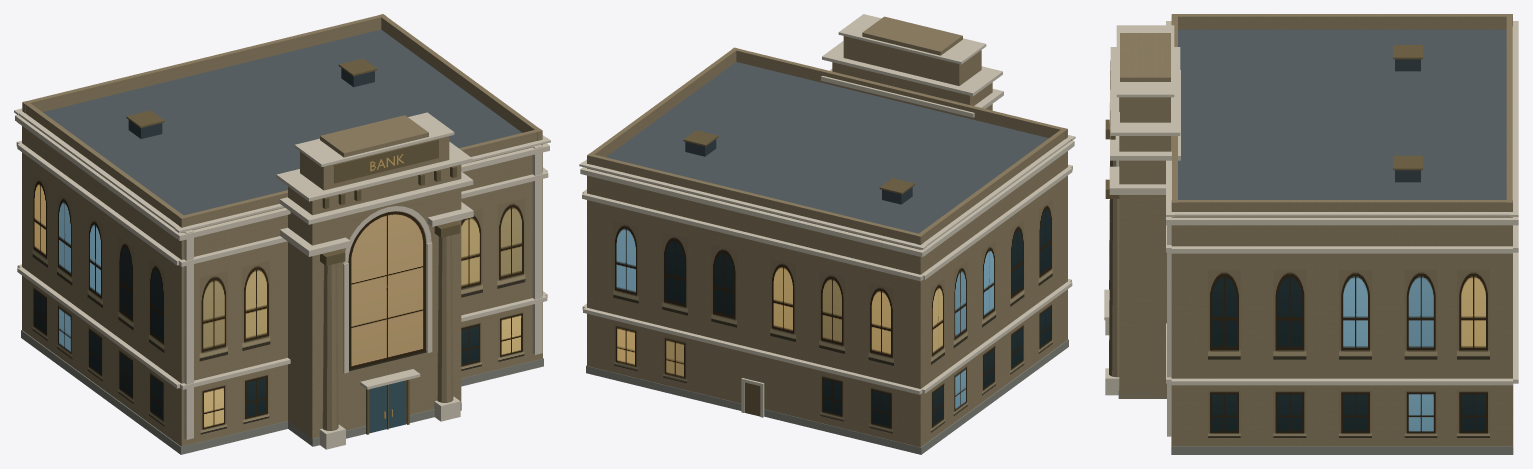
File: bank1.glb
3 renders of one model, left to right at view 1: azimuth 30°, elevation 25°; view 2: azimuth 150°, elevation 25°; view 3: azimuth 270°, elevation 25°, orthographic. The views are drawn at different scales.
Parts seen in each view (by area): view 1: Banking hall, Main roof, Entrance pavilion, Roof parapets, Great arched window, Side windows, Front arched windows, Side cornices, Front cornices, Entrance columns, Front windows, Portico entablature (+16 smaller); view 2: Banking hall, Main roof, Rear windows, Roof parapets, Rear cornices, Side windows, Side cornices, Foundation, Crown sign block, Portico entablature, Raised crest, Entrance pavilion (+4 smaller); view 3: Main roof, Banking hall, Side windows, Entrance pavilion, Roof parapets, Side cornices, Foundation, Portico entablature, Raised crest, Rear cornices, Entrance columns, Crown cap (+6 smaller).
Part boxes in pixels (left/top/right/bottom): Banking hall: left=22, top=126, right=542, bottom=446; Main roof: left=43, top=29, right=521, bottom=215; Entrance pavilion: left=288, top=164, right=461, bottom=445; Roof parapets: left=22, top=14, right=542, bottom=227; Great arched window: left=348, top=202, right=426, bottom=371; Side windows: left=32, top=174, right=164, bottom=426; Front arched windows: left=199, top=199, right=525, bottom=361; Side cornices: left=17, top=111, right=547, bottom=388; Front cornices: left=175, top=137, right=550, bottom=389; Entrance columns: left=322, top=235, right=453, bottom=430; Front windows: left=200, top=311, right=524, bottom=434; Portico entablature: left=276, top=141, right=473, bottom=224; Banking hall: left=587, top=151, right=1067, bottom=447; Main roof: left=606, top=62, right=1048, bottom=233; Rear windows: left=613, top=220, right=893, bottom=433; Roof parapets: left=587, top=47, right=1067, bottom=244; Rear cornices: left=579, top=161, right=926, bottom=394; Side windows: left=931, top=199, right=1052, bottom=432; Side cornices: left=582, top=138, right=1072, bottom=393; Foundation: left=586, top=339, right=1068, bottom=454; Crown sign block: left=843, top=36, right=981, bottom=85; Portico entablature: left=821, top=41, right=1003, bottom=117; Raised crest: left=862, top=16, right=962, bottom=55; Entrance pavilion: left=832, top=62, right=992, bottom=110; Main roof: left=1178, top=29, right=1506, bottom=199; Banking hall: left=1171, top=216, right=1512, bottom=446; Side windows: left=1208, top=270, right=1489, bottom=437; Entrance pavilion: left=1119, top=136, right=1171, bottom=398; Roof parapets: left=1171, top=14, right=1512, bottom=211; Side cornices: left=1171, top=212, right=1512, bottom=385; Foundation: left=1171, top=384, right=1513, bottom=454; Portico entablature: left=1110, top=47, right=1180, bottom=160; Raised crest: left=1120, top=33, right=1170, bottom=81; Rear cornices: left=1510, top=21, right=1518, bottom=383; Entrance columns: left=1109, top=160, right=1119, bottom=377; Crown cap: left=1116, top=25, right=1174, bottom=97.
Size of the model in its own units: 35 by 25.65 by 31.59.
10 materials, 3 textured.
